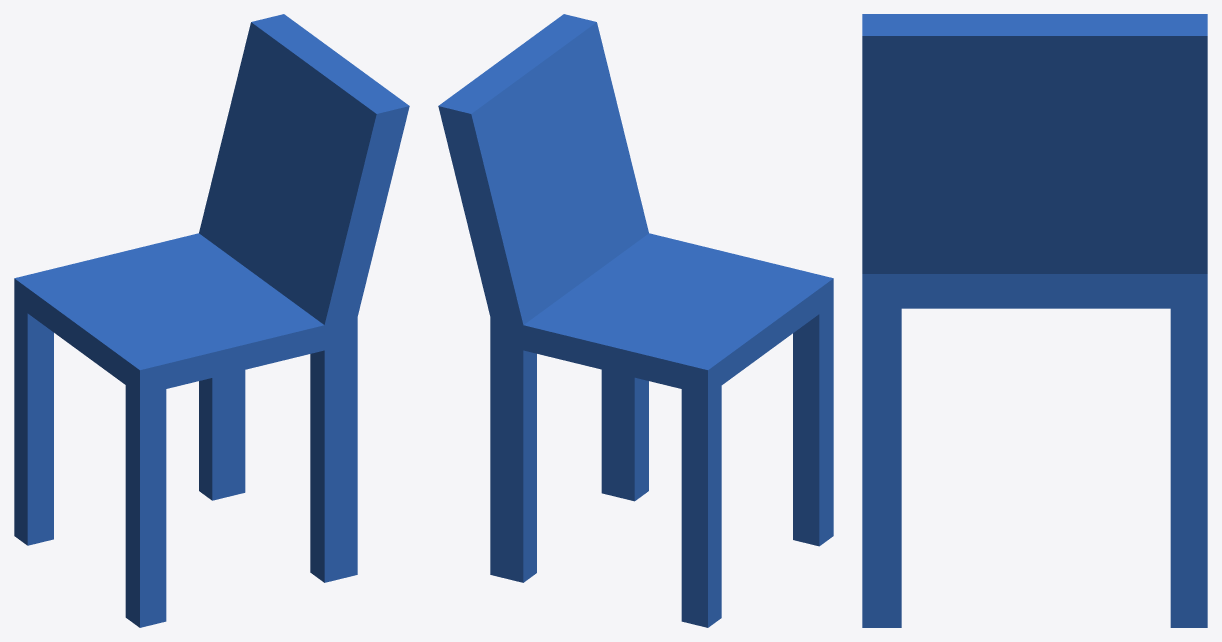
Rendered from musicchaircolor.fbx.
3 renders of one model, left to right at view 1: azimuth 30°, elevation 25°; view 2: azimuth 150°, elevation 25°; view 3: azimuth 270°, elevation 25°, orthographic. The views are drawn at different scales.
Visible parts, largest first — view 1: pCube53; view 2: pCube53; view 3: pCube53.
Part boxes in pixels (x1,y1,x2,y2): pCube53: (14, 14, 409, 627); pCube53: (438, 14, 833, 627); pCube53: (862, 14, 1207, 627).
Bounding box in the file's own units: 1.48 × 2.39 × 1.19.
